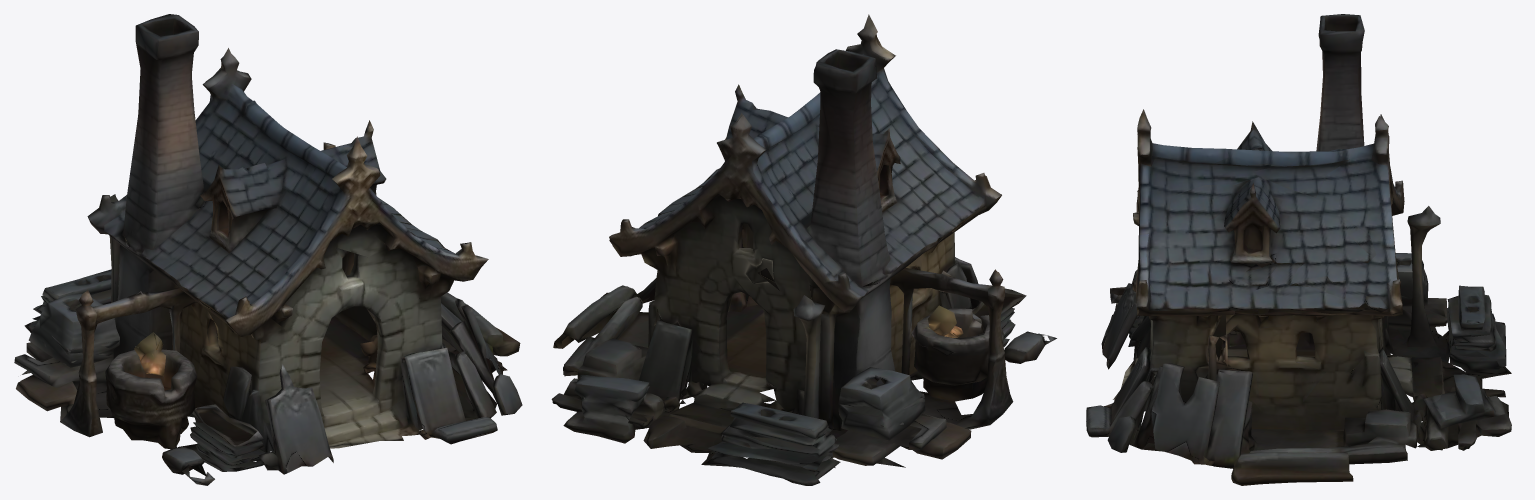
The model's file is foundry.glb.
3 renders of one model, left to right at view 1: azimuth 30°, elevation 25°; view 2: azimuth 150°, elevation 25°; view 3: azimuth 270°, elevation 25°, orthographic. The views are drawn at different scales.
Visible parts, largest first — view 1: geometry_0; view 2: geometry_0; view 3: geometry_0.
Boxes of the visible parts, x1,y1,x2,y2 form: geometry_0: (14,14,522,485); geometry_0: (551,14,1056,485); geometry_0: (1086,14,1511,485).
Bounding box in the file's own units: 0.9698 × 0.7841 × 0.9296.
1 material, 1 textured.
